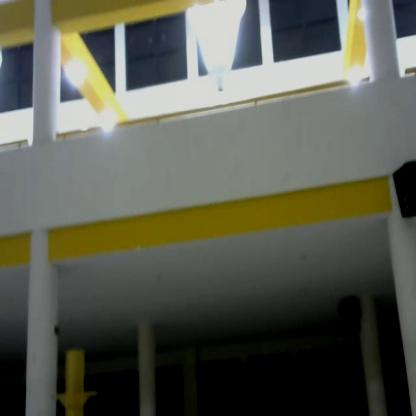pole: (47, 348, 104, 416)
